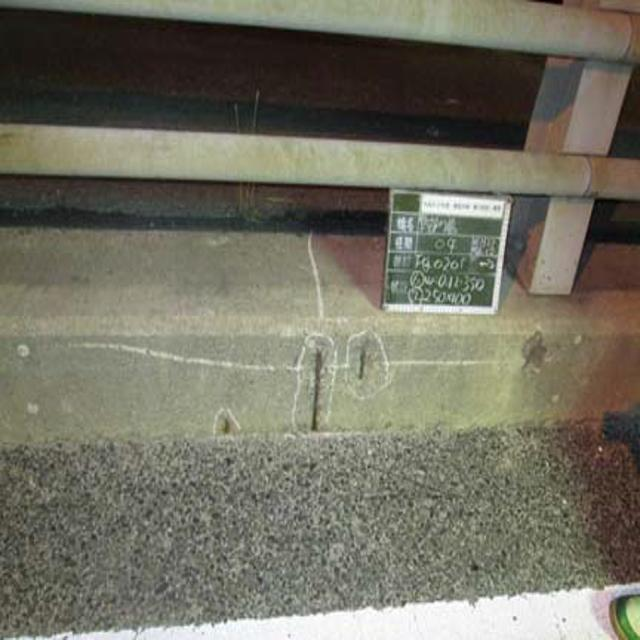spalling: (196, 333, 397, 438), (509, 324, 567, 387)
